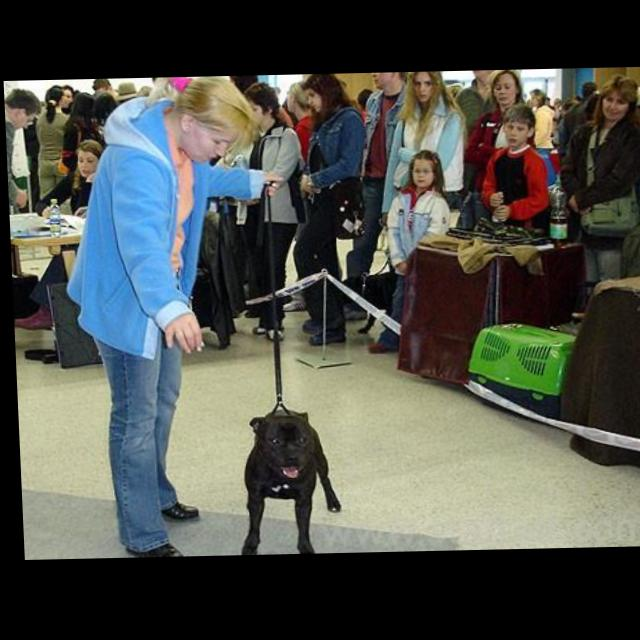face: (175, 106, 238, 167), (303, 75, 346, 118), (243, 84, 281, 131), (599, 81, 633, 128), (502, 107, 536, 151), (407, 154, 440, 192), (489, 72, 520, 107), (408, 73, 438, 106), (11, 95, 39, 130), (74, 142, 99, 181), (365, 74, 403, 97)
person: (57, 77, 294, 560), (286, 75, 373, 348), (225, 83, 309, 342), (358, 151, 455, 357), (554, 80, 640, 305), (344, 74, 420, 313), (371, 73, 468, 234), (455, 72, 529, 239), (473, 109, 550, 238), (4, 86, 45, 230), (44, 141, 119, 218), (34, 86, 71, 210)
staffford: (231, 409, 337, 556)
